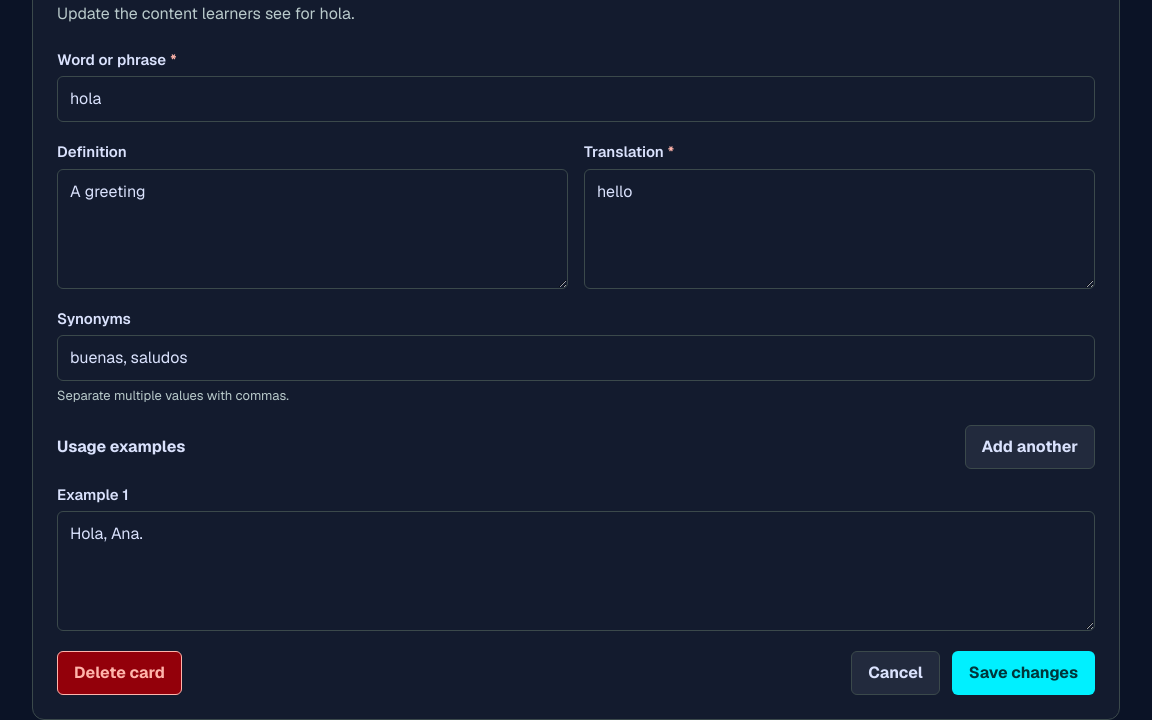
Test: EditCardPage › keeps a delete failure inline and remains on the editor
The image size is (1152, 720).
(page scrolled)
Click the button "Delete card": click(119, 673) top-left (57, 651), bottom-right (182, 695)
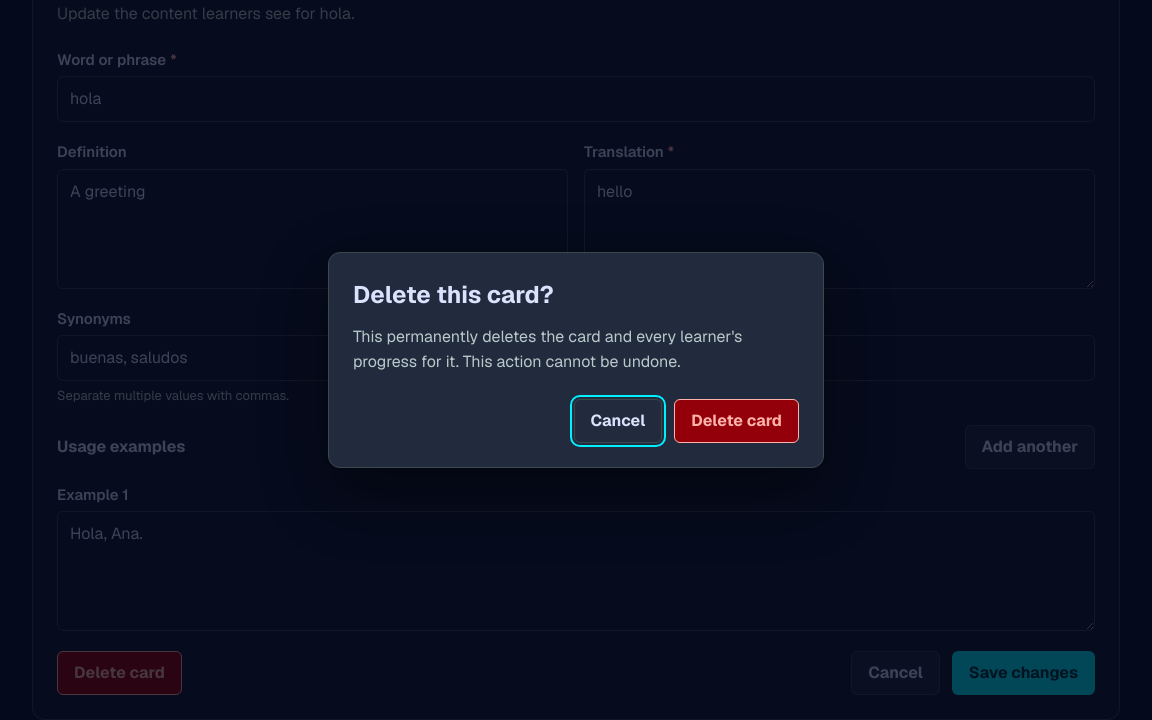
Click the button "Delete card": click(737, 421) top-left (674, 399), bottom-right (799, 443)
(page scrolled)
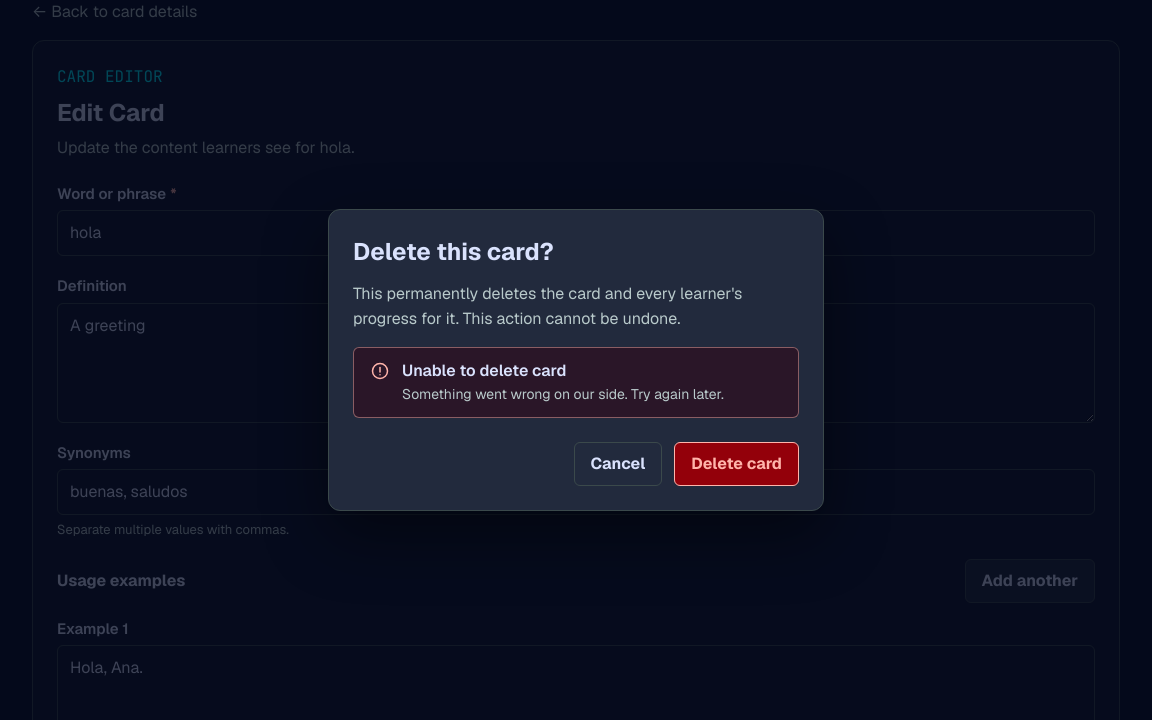
Expected: the heading "Edit Card" is shown, top-left (57, 97), bottom-right (165, 128)
Expected: the text "Unable to delete card" is shown, top-left (402, 360), bottom-right (566, 381)
